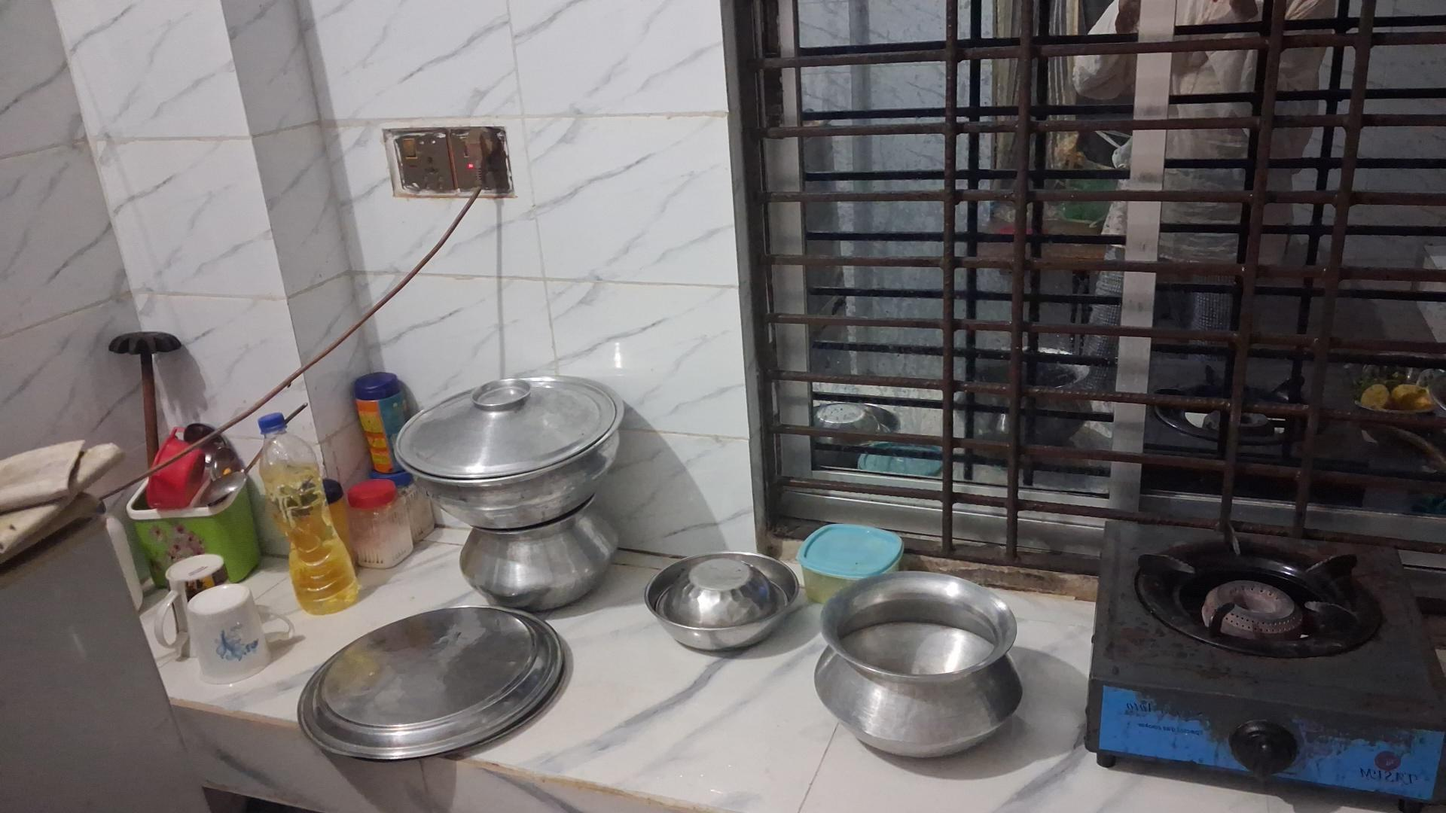Bottle: (252, 419, 364, 614)
Bowl: (643, 555, 796, 651)
Cup: (188, 585, 298, 675)
Jar: (796, 521, 902, 608), (345, 479, 414, 564), (351, 377, 406, 473)
Plate: (297, 608, 565, 762)
Pot: (820, 580, 1022, 762), (390, 385, 627, 529), (460, 518, 624, 614)
